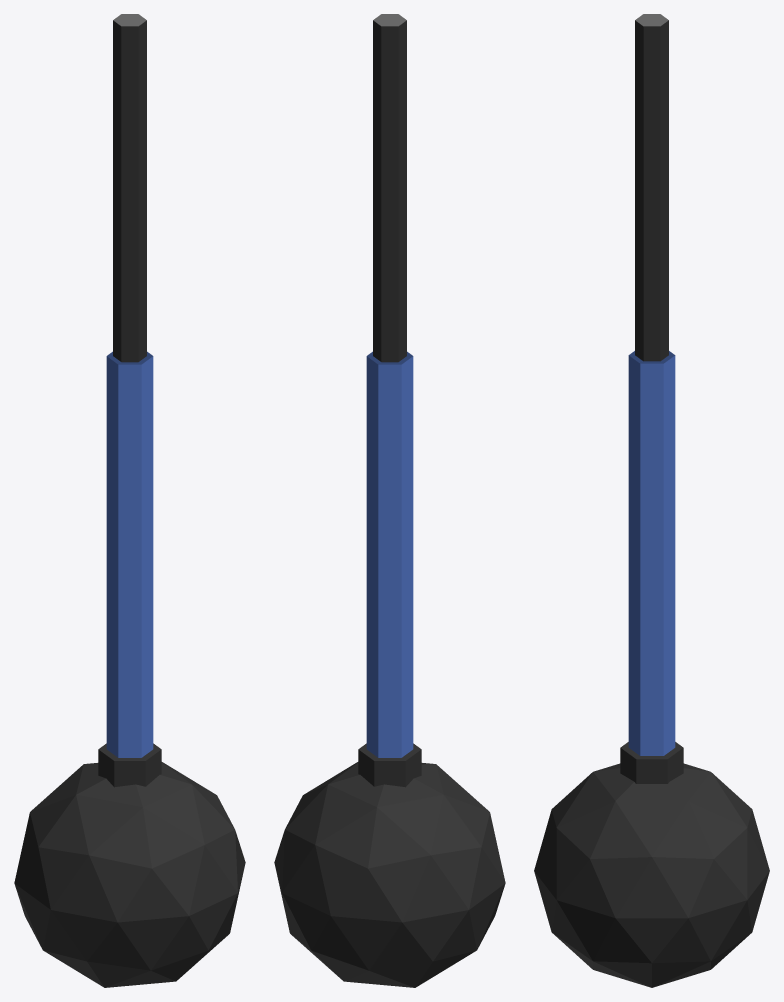
The model's file is CoreHammer.fbx.
3 views of the same model, side by side, from view 1: azimuth 30°, elevation 25°; view 2: azimuth 150°, elevation 25°; view 3: azimuth 270°, elevation 25° (orthographic).
Visible parts, largest first — view 1: ZomboidCoreHammer; view 2: ZomboidCoreHammer; view 3: ZomboidCoreHammer.
Part boxes in pixels (x1=…): ZomboidCoreHammer: x1=14, y1=14, x2=245, y2=987; ZomboidCoreHammer: x1=274, y1=14, x2=505, y2=987; ZomboidCoreHammer: x1=534, y1=14, x2=769, y2=987.
Size of the model in its own units: 0.1487 by 0.7003 by 0.1564.
